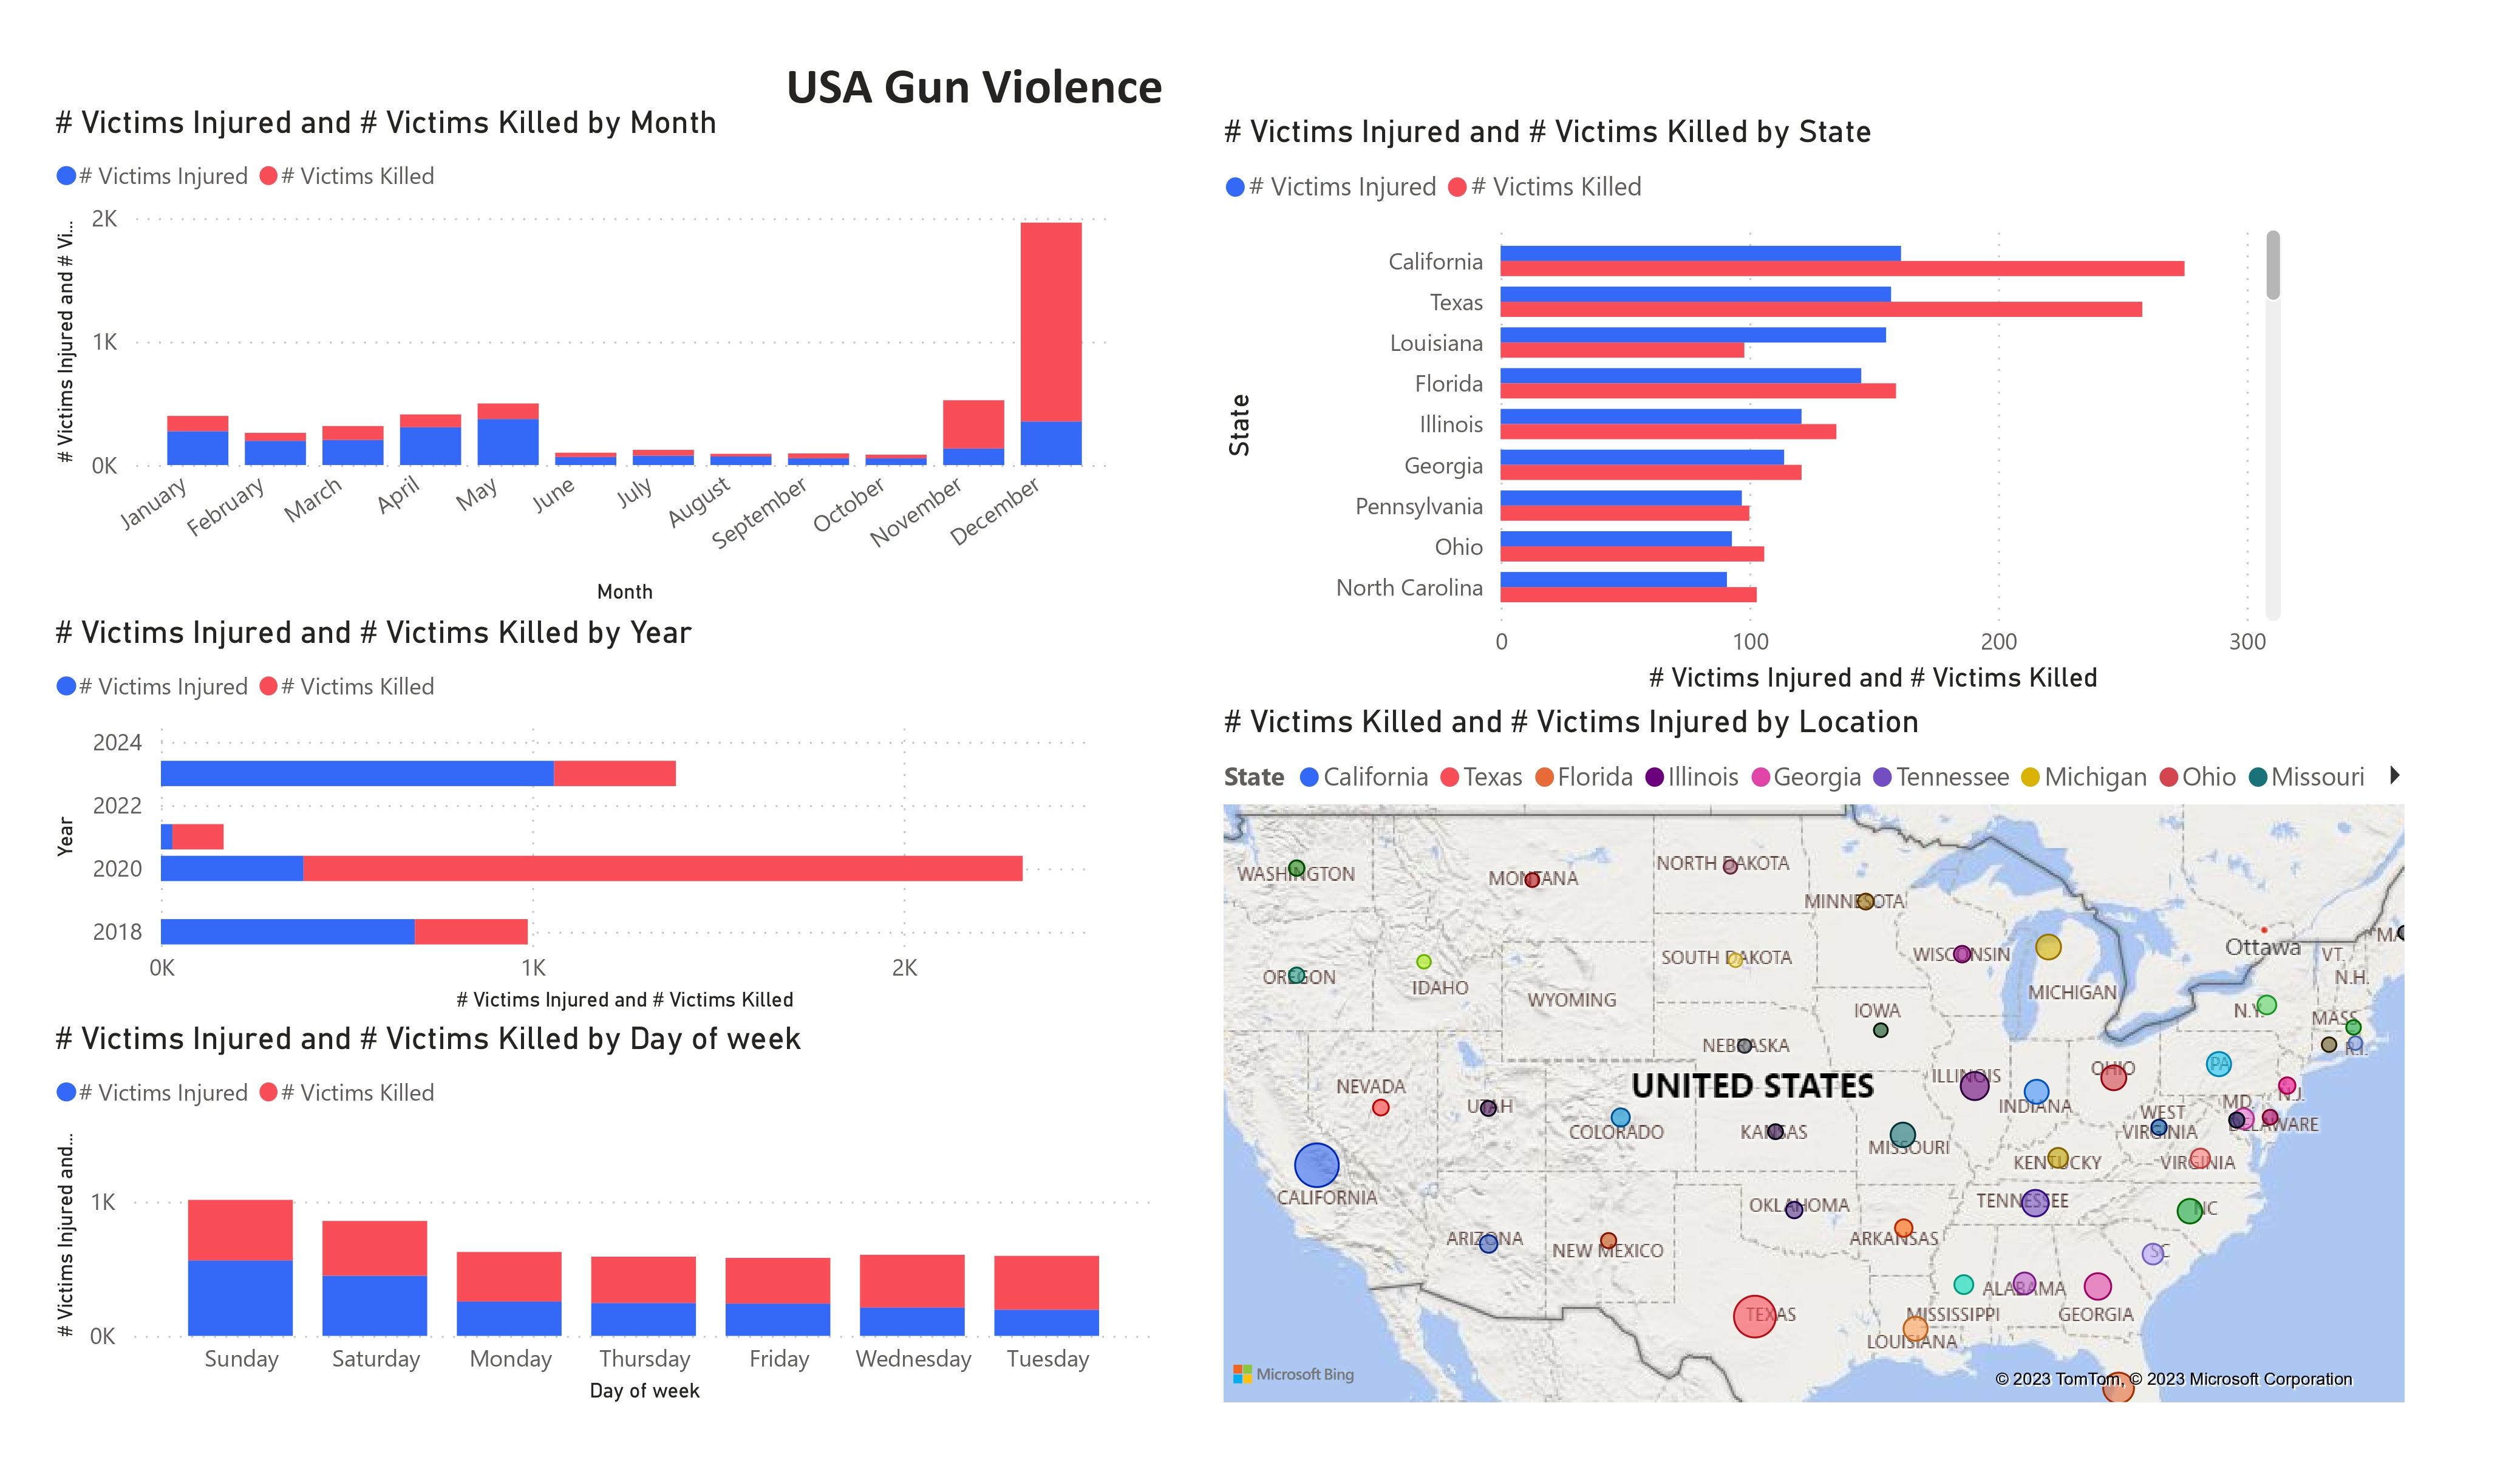

This screenshot's page, from the dashboard's own definition file:
{"tool":"powerbi","page":{"name":"Page 1","canvas":[1280,720],"ordinal":0},"visuals":[{"type":"columnChart","title":"# Victims Injured and # Victims Killed by Month","fields":{"Category":["dataset.Incident Date.Variation.Date Hierarchy.Month"],"Y":["Sum(dataset.# Victims Injured)","Sum(dataset.# Victims Killed)"]},"box":[0,30,567.5,268.8],"z":0},{"type":"clusteredBarChart","title":"# Victims Injured and # Victims Killed by State","fields":{"Category":["dataset.State"],"Y":["Sum(dataset.# Victims Injured)","Sum(dataset.# Victims Killed)"]},"box":[616.2,35,566.2,311.2],"z":1000},{"type":"barChart","fields":{"Category":["dataset.Incident Date.Variation.Date Hierarchy.Year"],"Y":["Sum(dataset.# Victims Injured)","Sum(dataset.# Victims Killed)"]},"box":[0,298.8,567.5,215],"z":2000},{"type":"columnChart","fields":{"Category":["dataset.Day of week"],"Y":["Sum(dataset.# Victims Injured)","Sum(dataset.# Victims Killed)"]},"box":[0,513.2,590.1,207.2],"z":3000},{"type":"map","title":"# Victims Killed and # Victims Injured by Location","fields":{"Category":["dataset.State","dataset.City Or County"],"Series":["dataset.State"],"Size":["Sum(dataset.# Victims Killed)"]},"box":[616.2,346.2,631.2,373.8],"z":4000},{"type":"textbox","box":[362.5,0,253.8,45],"z":4001}]}

Visuals, with their boxes in screenshot pixels (x1, y1, x2, y2):
"# Victims Injured and # Victims Killed by Month" columnChart: box=[46, 103, 1122, 613]
"# Victims Injured and # Victims Killed by State" clusteredBarChart: box=[1215, 112, 2289, 702]
barChart - dataset.Incident Date.Variation.Date Hierarchy.Year x Sum(dataset.# Victims Injured): box=[46, 613, 1122, 1021]
columnChart - dataset.Day of week x Sum(dataset.# Victims Injured): box=[46, 1019, 1165, 1411]
"# Victims Killed and # Victims Injured by Location" map: box=[1215, 702, 2413, 1411]
textbox: box=[734, 46, 1215, 131]
